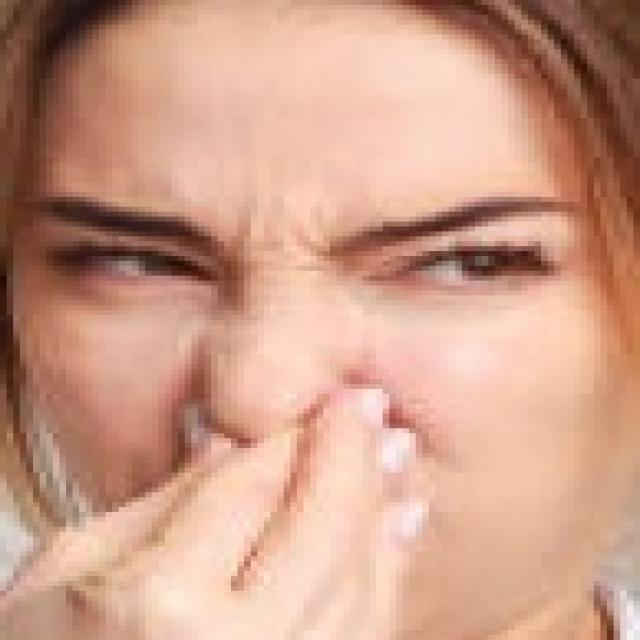Anxiety: (4, 0, 633, 635)
